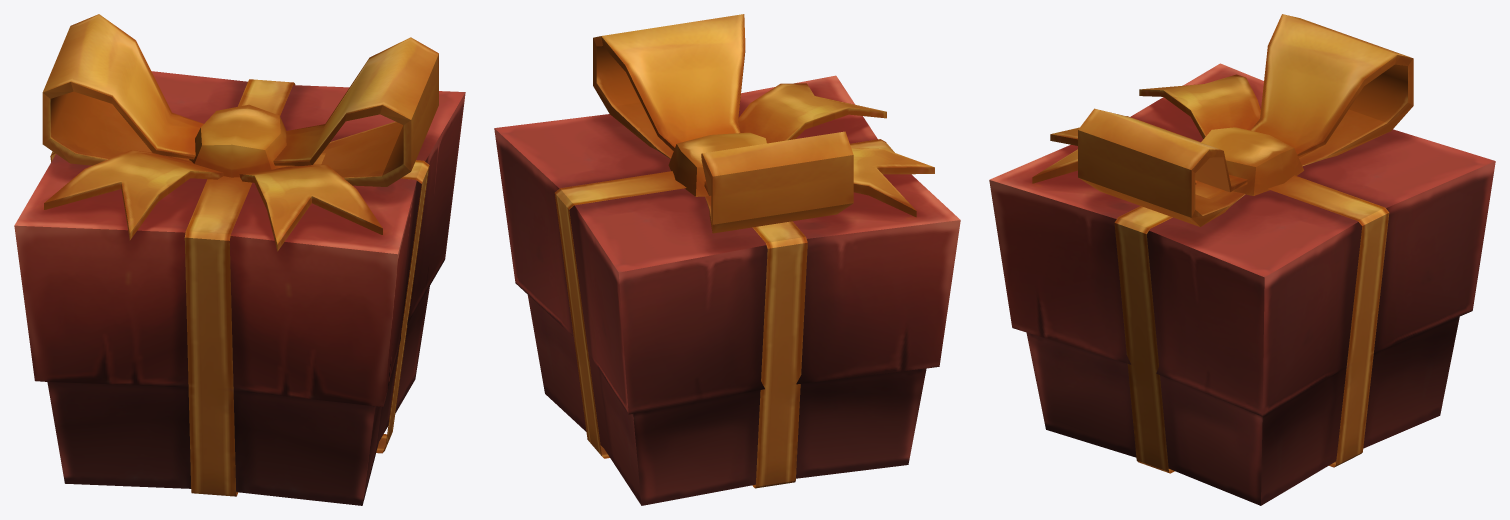
Rendered from 83_gift box.FBX.
The picture shows the model from 3 angles, left to right: view 1: azimuth 30°, elevation 25°; view 2: azimuth 150°, elevation 25°; view 3: azimuth 270°, elevation 25°; orthographic projection. The views are drawn at different scales.
Visible parts, largest first — view 1: Object043; view 2: Object043; view 3: Object043.
Boxes of the visible parts, x1,y1,x2,y2 form: Object043: (14,14,465,505); Object043: (494,14,960,505); Object043: (989,14,1495,505).
Size of the model in its own units: 58.85 by 43.96 by 58.85.
